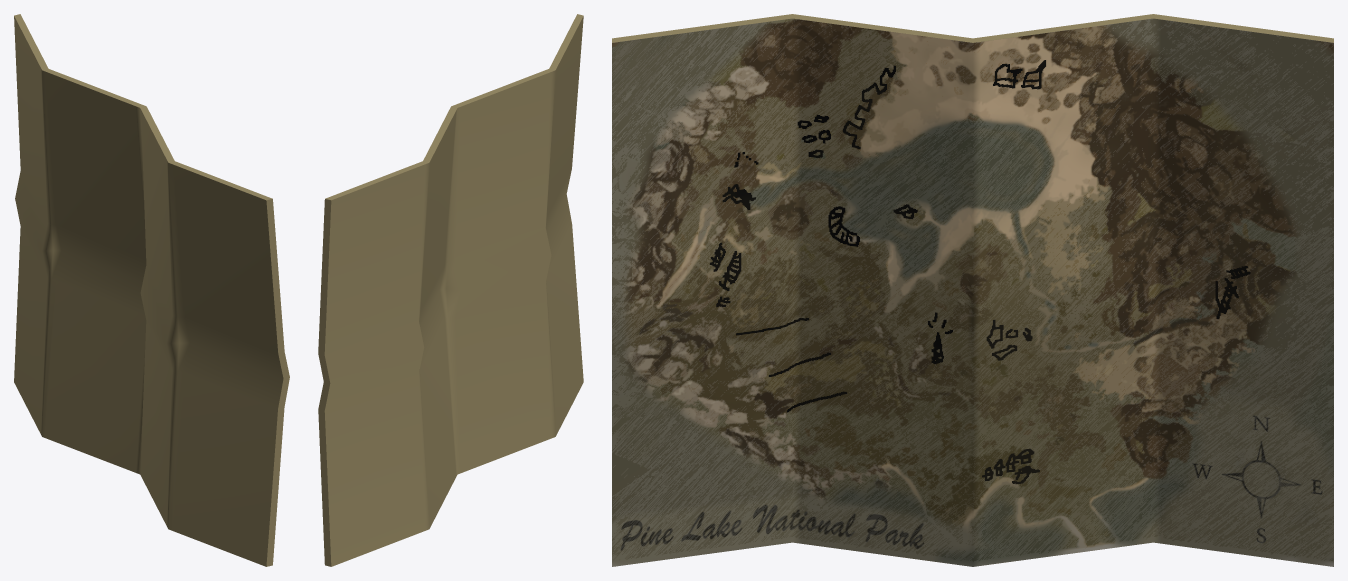
File: foldedMap.fbx
3 views of the same model, side by side, from view 1: azimuth 30°, elevation 25°; view 2: azimuth 150°, elevation 25°; view 3: azimuth 270°, elevation 25° (orthographic). The views are drawn at different scales.
Parts seen in each view (by area): view 1: pCube1; view 2: pCube1; view 3: pCube1.
Boxes of the visible parts, <box> form: pCube1: <box>14,14,289,566</box>; pCube1: <box>318,14,583,566</box>; pCube1: <box>612,14,1333,566</box>.
Bounding box in the file's own units: 0.4673 × 2.8 × 3.49.
